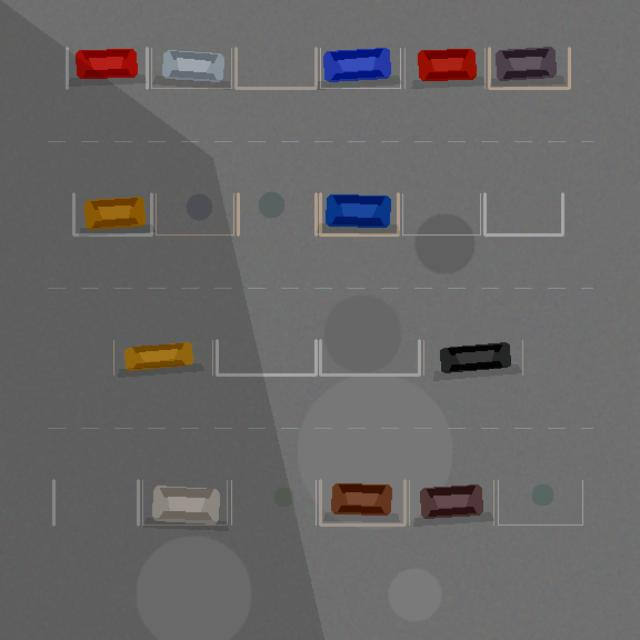space-empty: (53, 480, 138, 524), (231, 480, 316, 524), (498, 480, 582, 524), (217, 340, 316, 374), (320, 340, 419, 374), (236, 48, 316, 88), (238, 193, 316, 234), (402, 193, 480, 234), (484, 193, 562, 234), (156, 193, 233, 234)
space-occupied: (142, 480, 227, 524), (320, 480, 404, 524), (409, 480, 493, 524), (113, 340, 212, 374), (423, 340, 522, 374), (67, 48, 147, 88), (151, 48, 231, 88), (320, 48, 400, 88), (404, 48, 484, 88), (489, 48, 569, 88), (73, 193, 151, 234), (320, 193, 398, 234)
